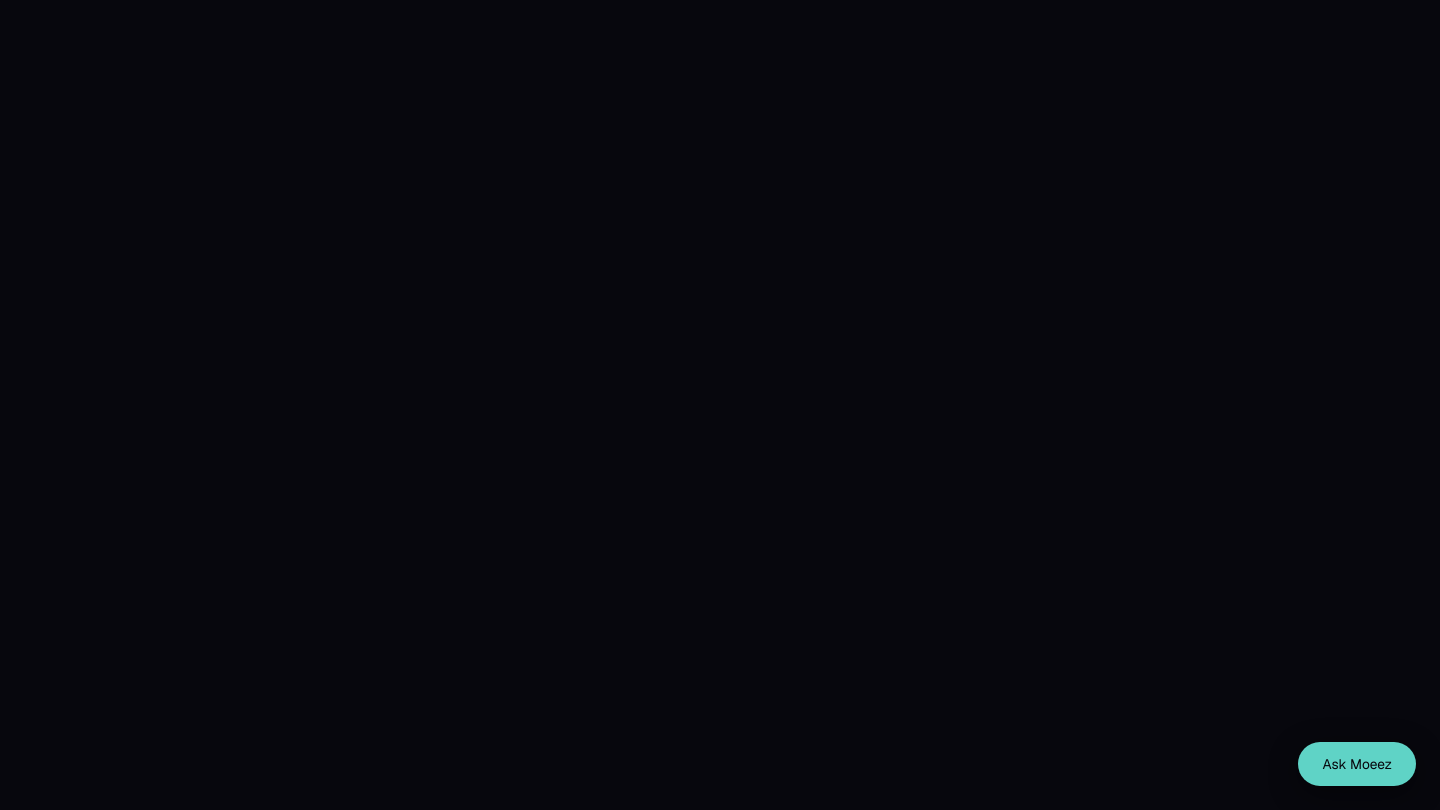
Test: ChatDock › keeps the question and answers in place when the network fails
Step 1. Click the button "Ask Moeez" → click(1357, 764), box [1298, 742, 1416, 786]
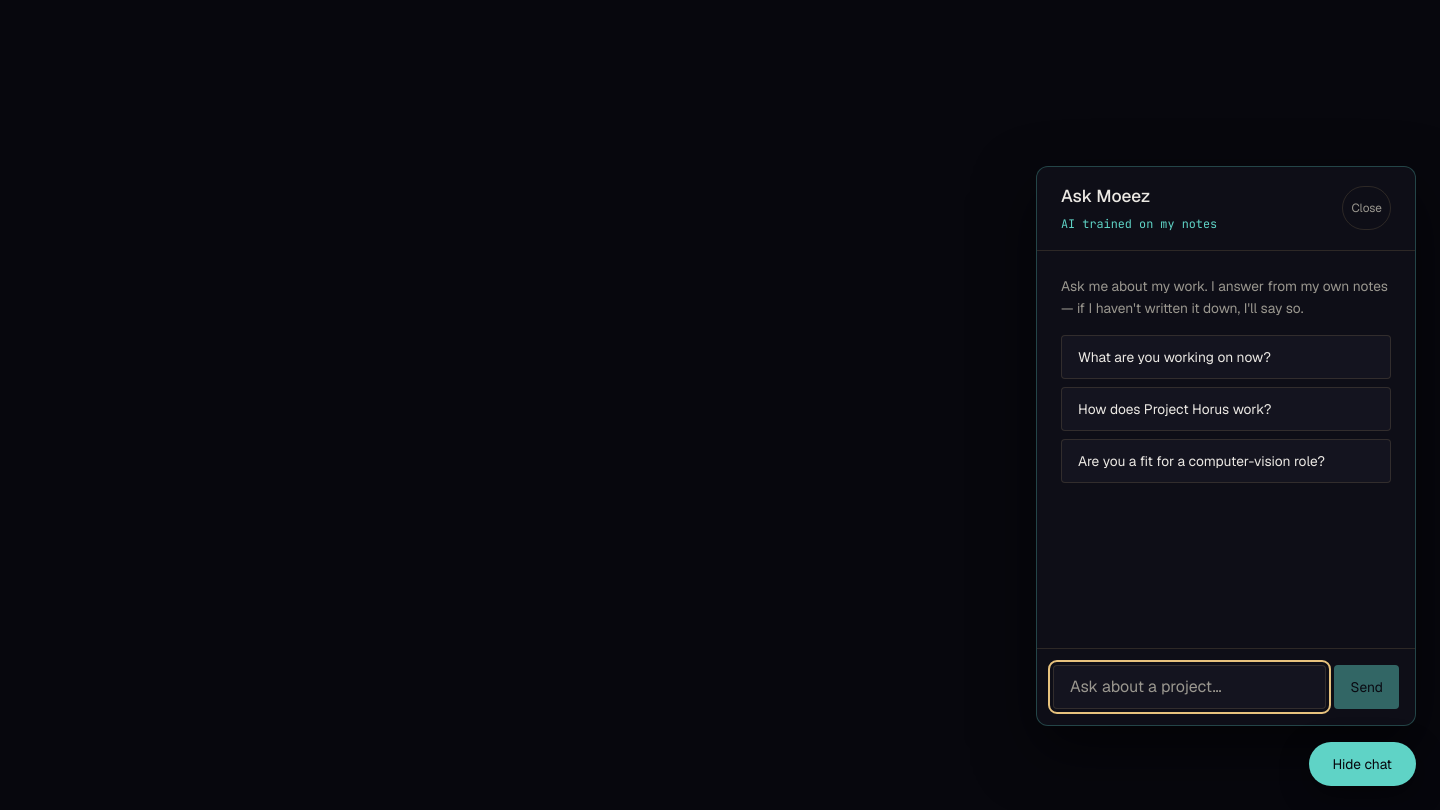
Step 2. Type "are you free for work?" into the field → (1190, 687), box [1053, 665, 1326, 709]
Then press Enter
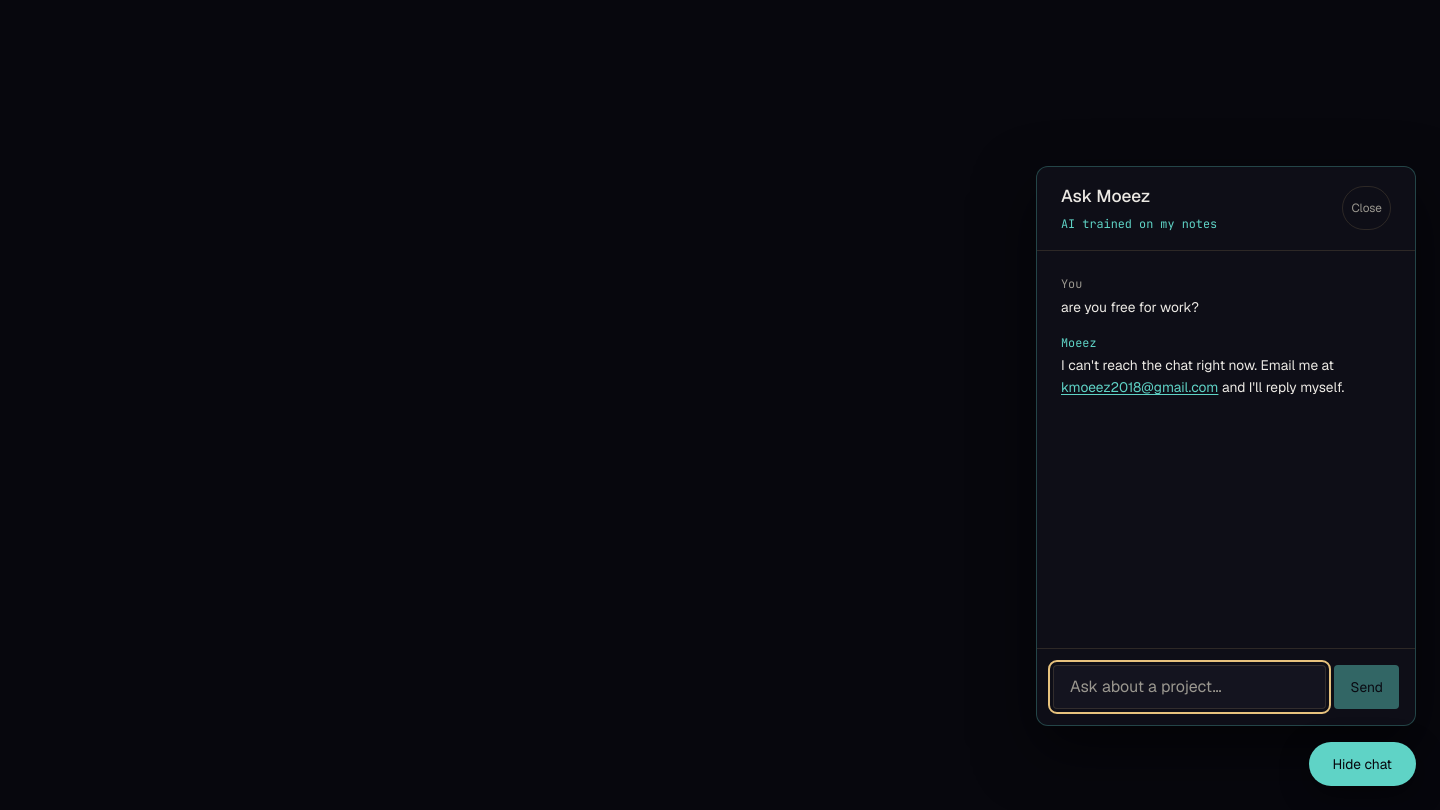
Now the list shows "kmoeez2018@gmail.com", box [1061, 378, 1218, 396]
Now the list shows "are you free for work?", box [1061, 298, 1199, 316]
